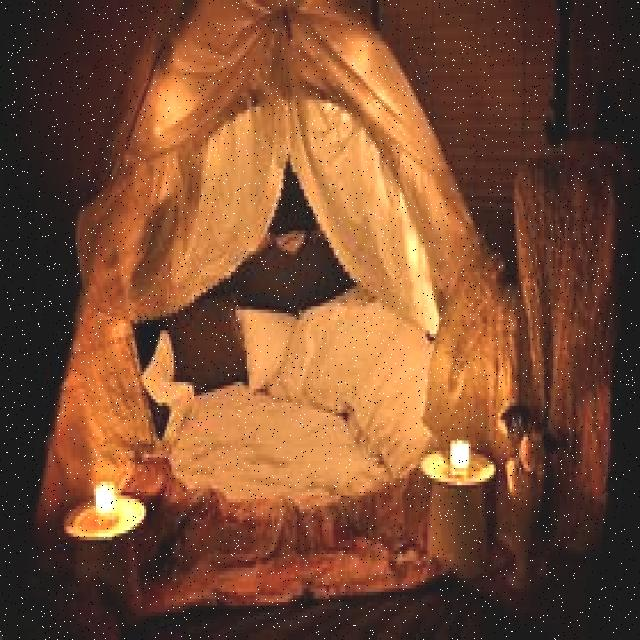bed: (66, 256, 462, 566)
